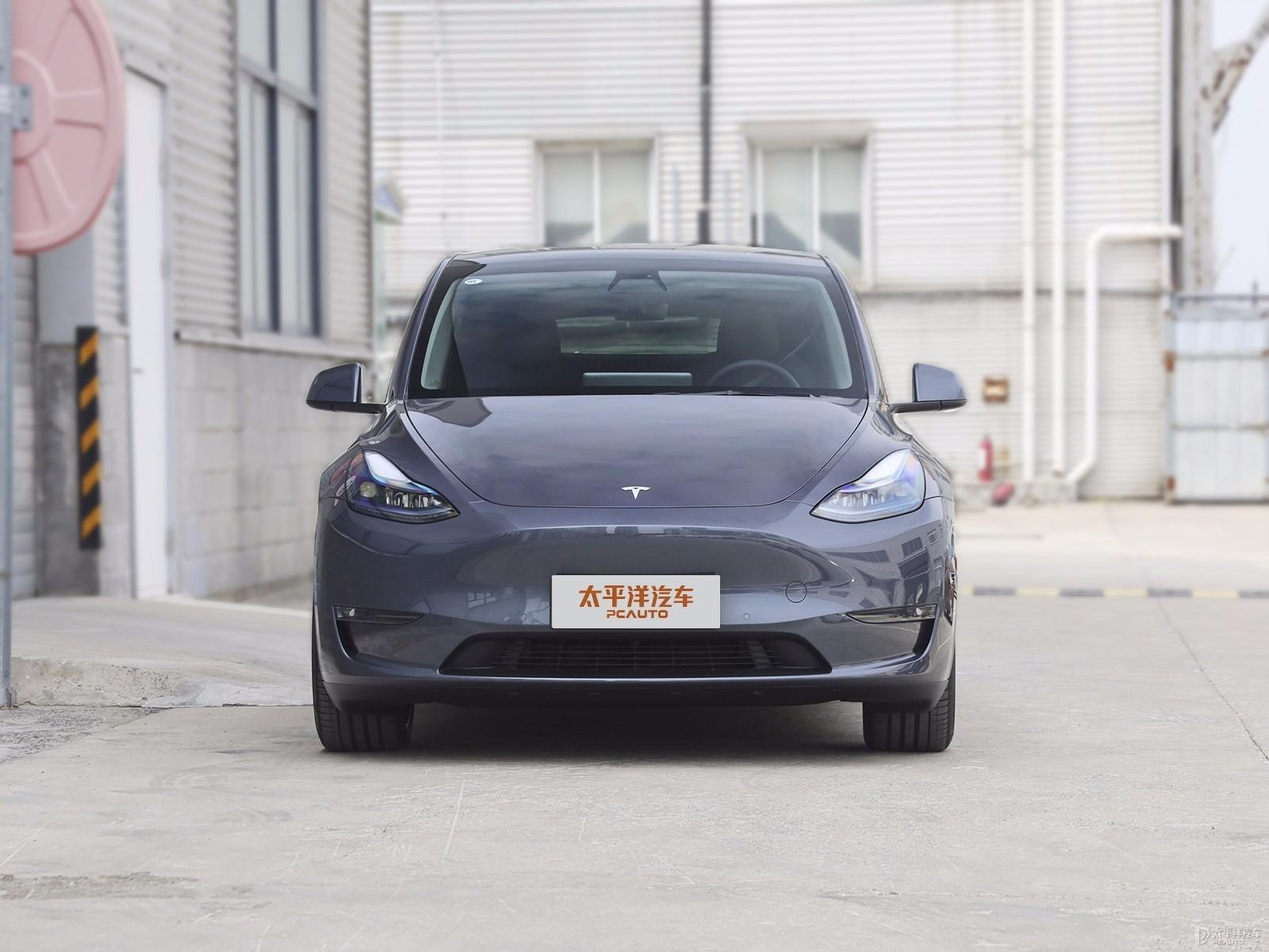Tesla: (619, 486, 651, 501)
